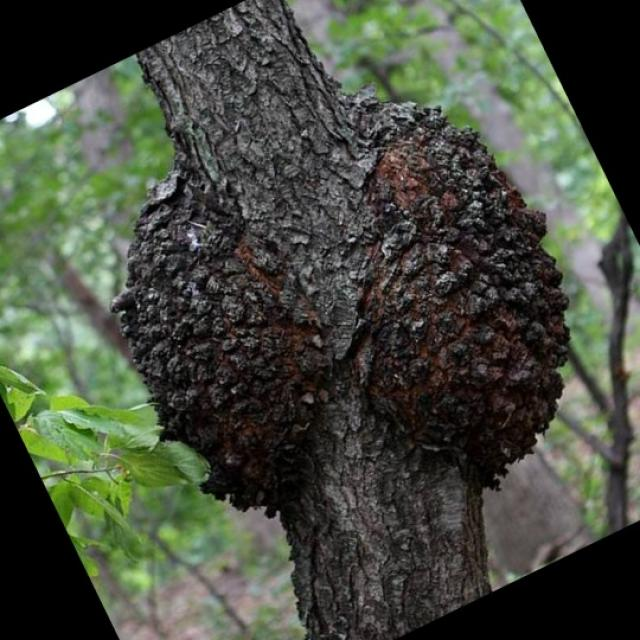Black_knot: (107, 0, 572, 520), (345, 102, 572, 492)
